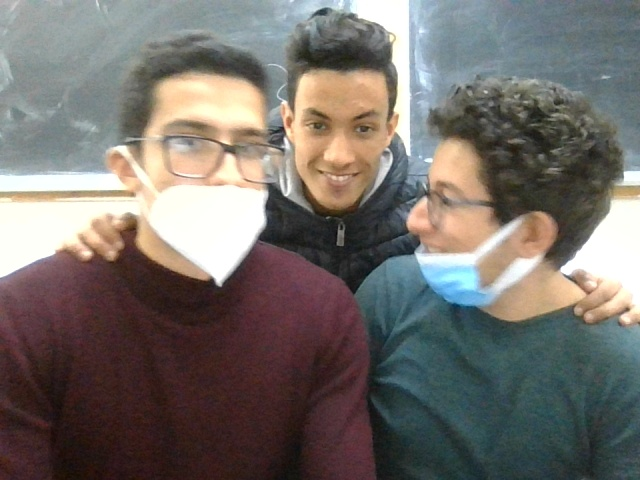mask_weared_incorrect: (399, 76, 610, 297)
without_mask: (274, 15, 396, 210)
